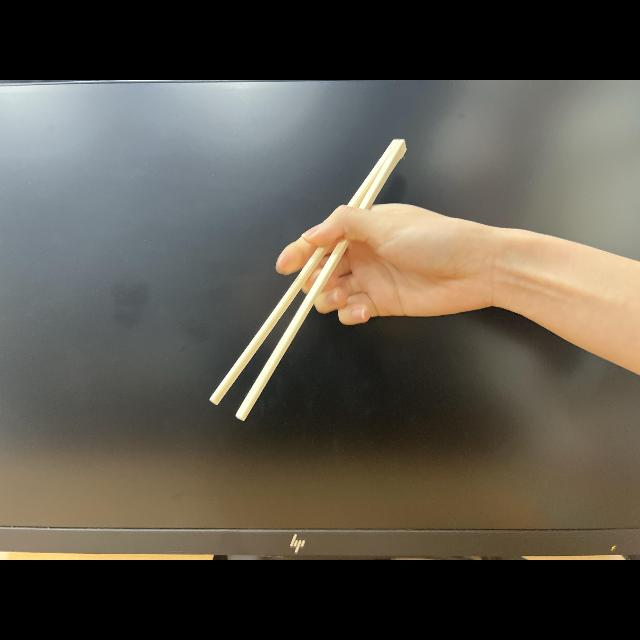stick: (209, 136, 479, 420)
